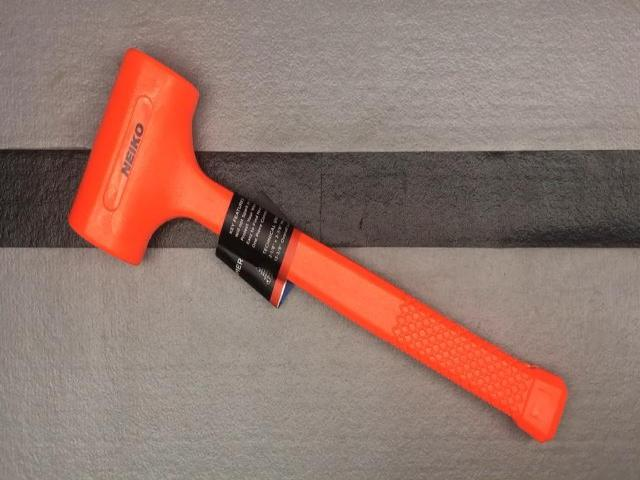hammer: (67, 50, 572, 439)
